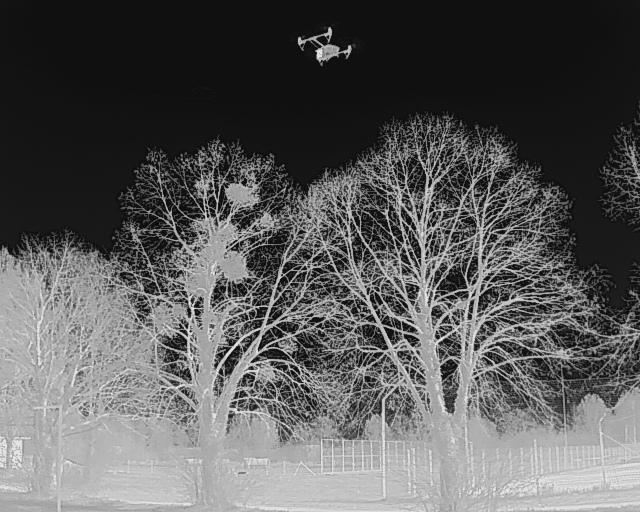drone: (284, 26, 359, 82)
